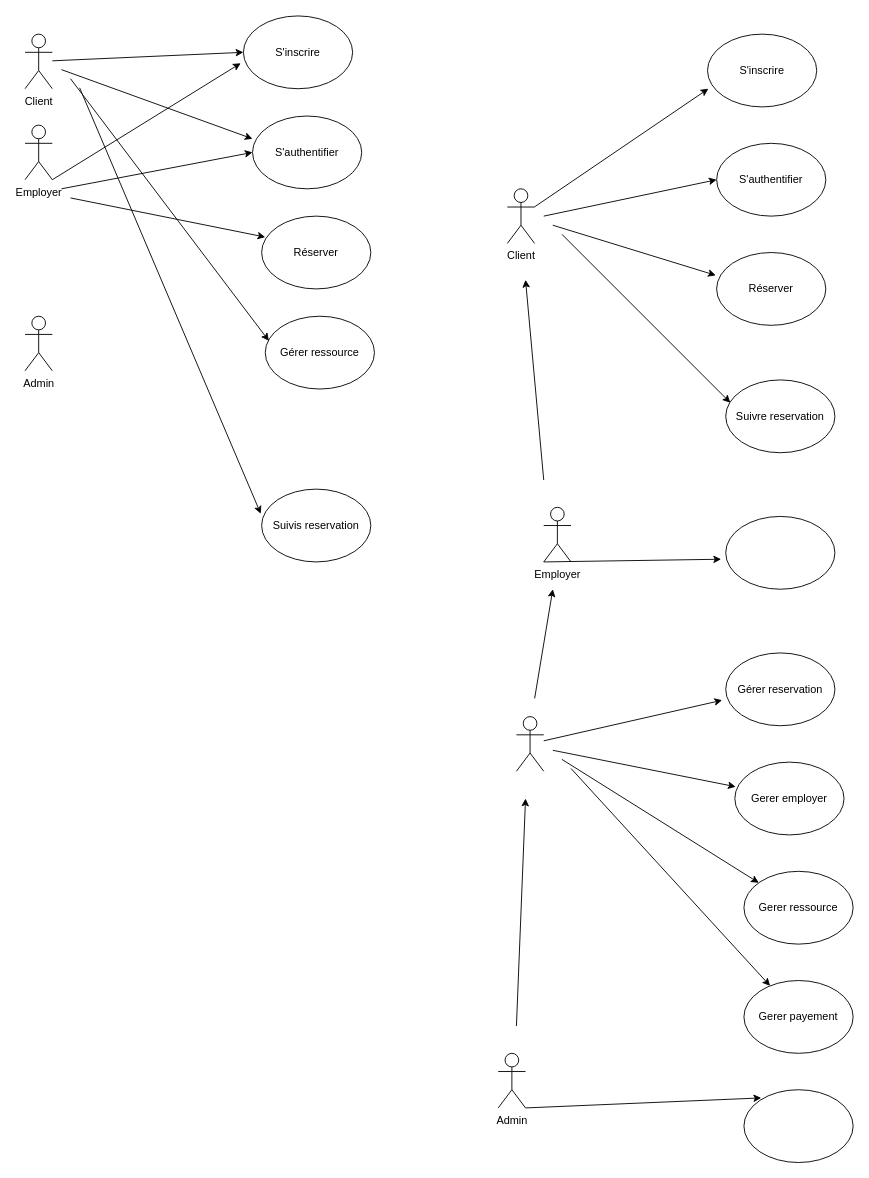
This 869x1178 diagram has some shape labels left out. The shapes that lost their labels are listed below. From the top down, each one's centre as x and y in pixels, then its label:
the point at 780,552: Check etat de reservation
the point at 530,743: Manager
the point at 798,1126: Gerer manager
